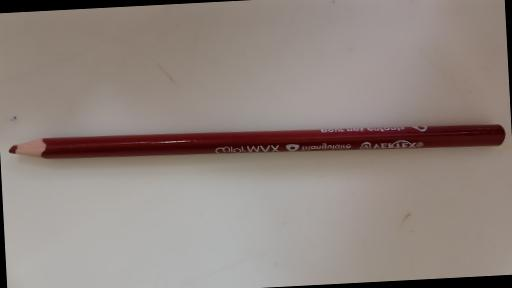Pencil: (5, 114, 511, 170)
